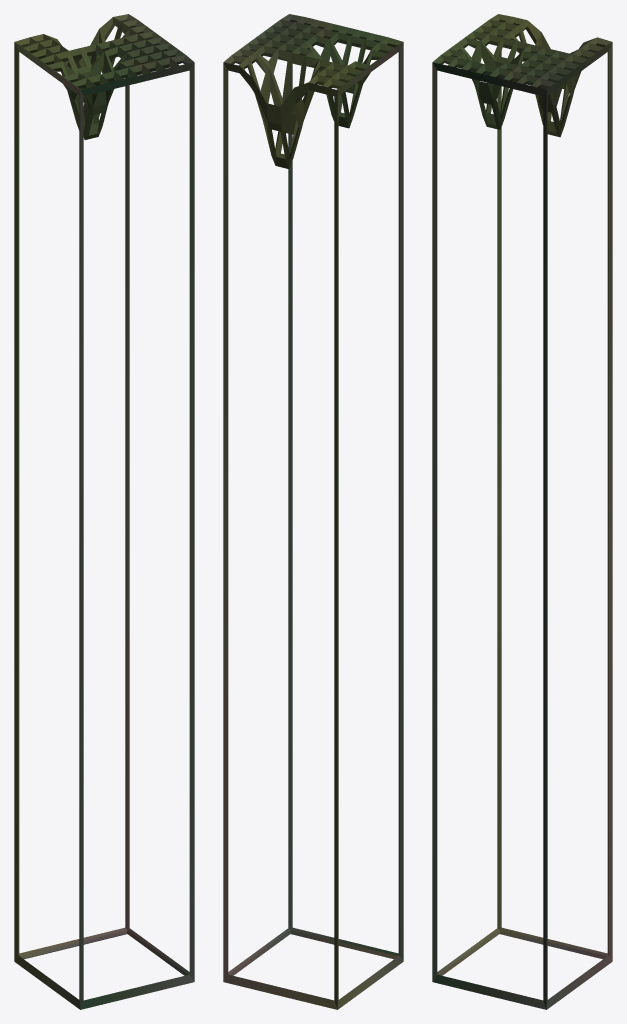
The model's file is erimis zemin1.fbx.
3 renders of one model, left to right at view 1: azimuth 30°, elevation 25°; view 2: azimuth 150°, elevation 25°; view 3: azimuth 330°, elevation 25°, orthographic.
Parts seen in each view (by area): view 1: Cube.005; view 2: Cube.005; view 3: Cube.005.
Boxes of the visible parts, x1=… form: Cube.005: x1=14, y1=14, x2=194, y2=1009; Cube.005: x1=223, y1=14, x2=403, y2=1009; Cube.005: x1=432, y1=14, x2=612, y2=1009.
Bounding box in the file's own units: 205 × 1573 × 205.
Materials: 1 (1 with a texture image).
